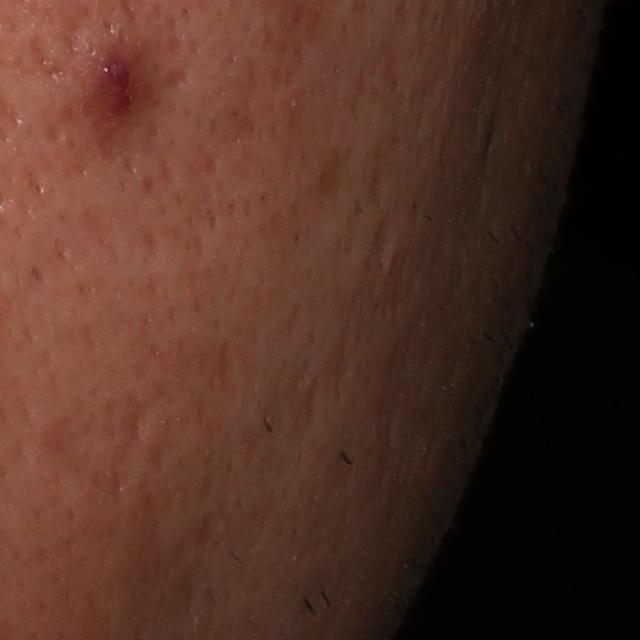atrophic_scar: (24, 31, 68, 88), (218, 343, 240, 407), (165, 67, 187, 91)
papule: (87, 47, 142, 117)
